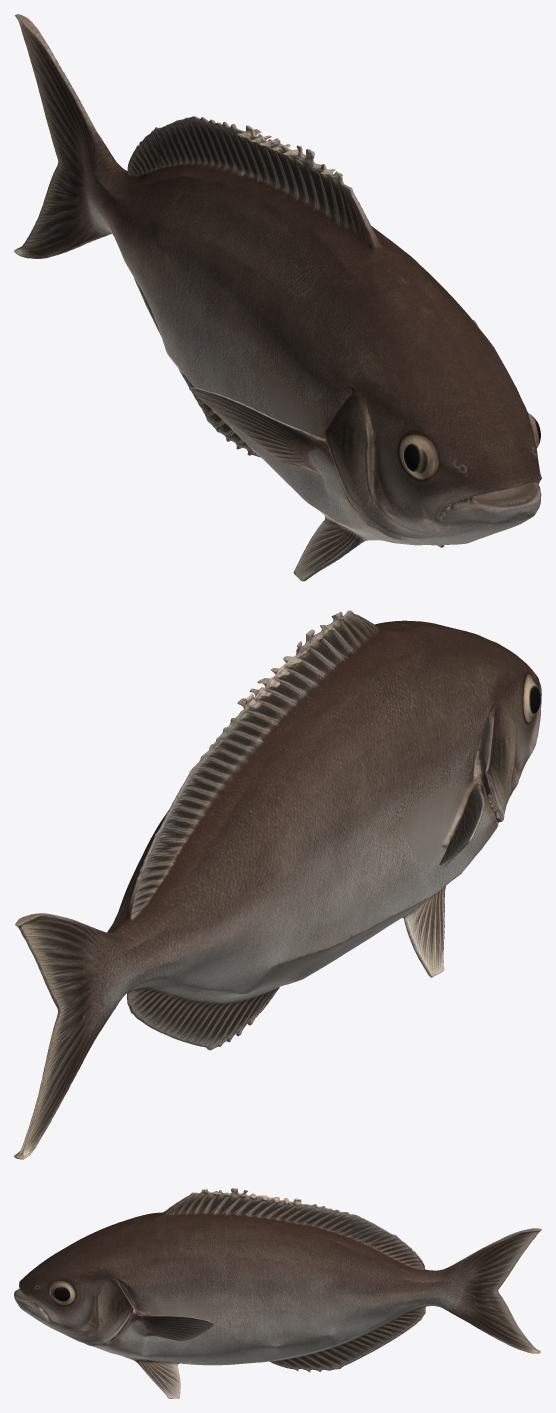
Rendered from medai.glb.
3 renders of one model, top to bottom at view 1: azimuth 30°, elevation 25°; view 2: azimuth 150°, elevation 25°; view 3: azimuth 270°, elevation 25°, orthographic. The views are drawn at different scales.
Bounding box in the file's own units: 0.6103 × 0.7649 × 1.9.
1 material, 1 textured.
